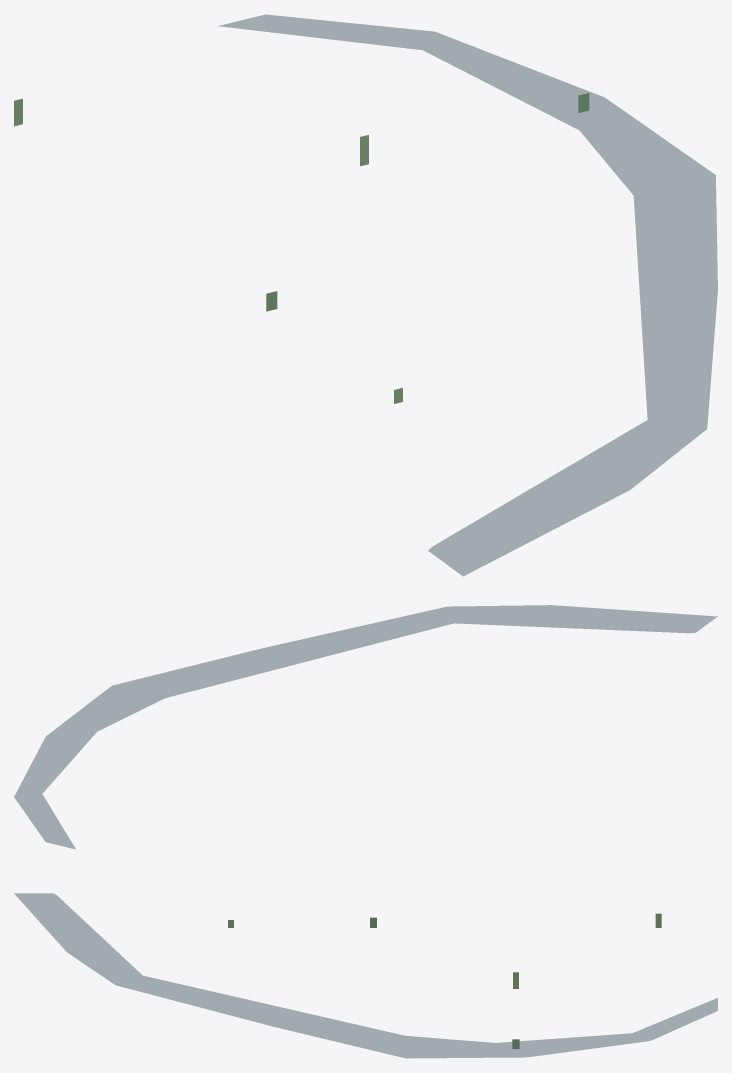
3 views of the same model, one above another, from view 1: azimuth 30°, elevation 25°; view 2: azimuth 150°, elevation 25°; view 3: azimuth 270°, elevation 25° (orthographic). The views are drawn at different scales.
Size of the model in its own units: 164 by 7.82 by 296.
